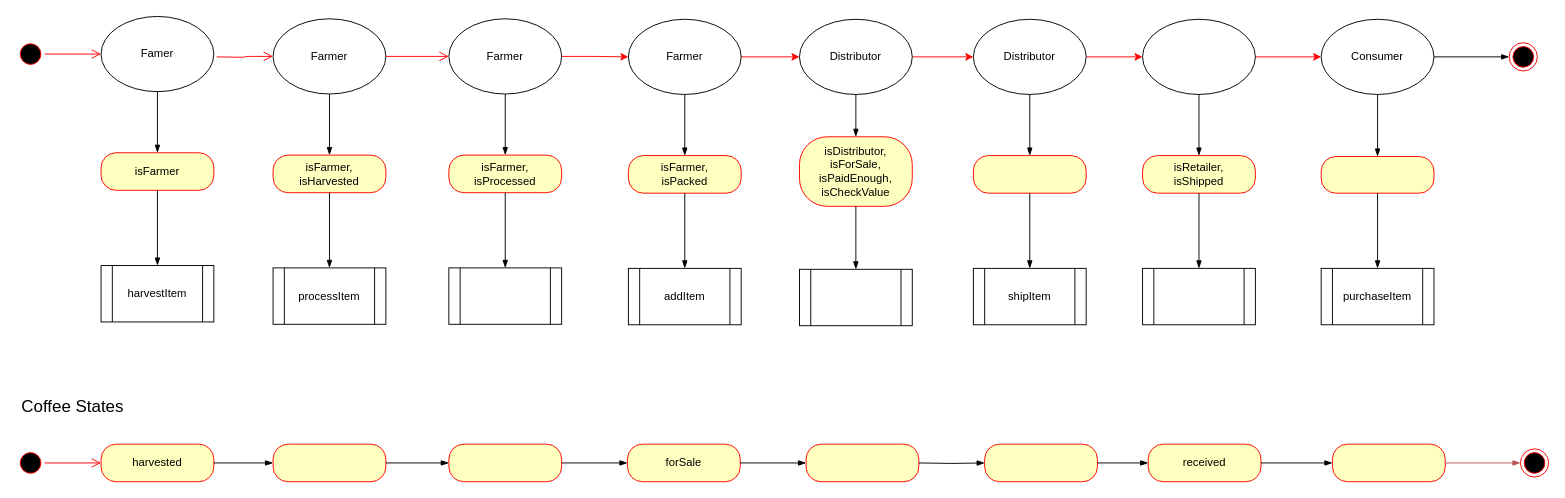
Some shapes in this 1565 by 498 pixel diagram are drawn without their labels. The shapes that lost their labels are listed below. From the top down, each one's centre as x and y in pixels, then its label:
[1198,56]: Retailer
[1029,174]: isDistributor, isSold
[1377,174]: isConsumer, isReceived
[505,295]: packItem
[855,297]: buyItem
[1198,296]: receiveItem
[329,462]: processed
[505,462]: packed
[862,462]: sold
[1040,462]: shipped
[1388,462]: purchased
